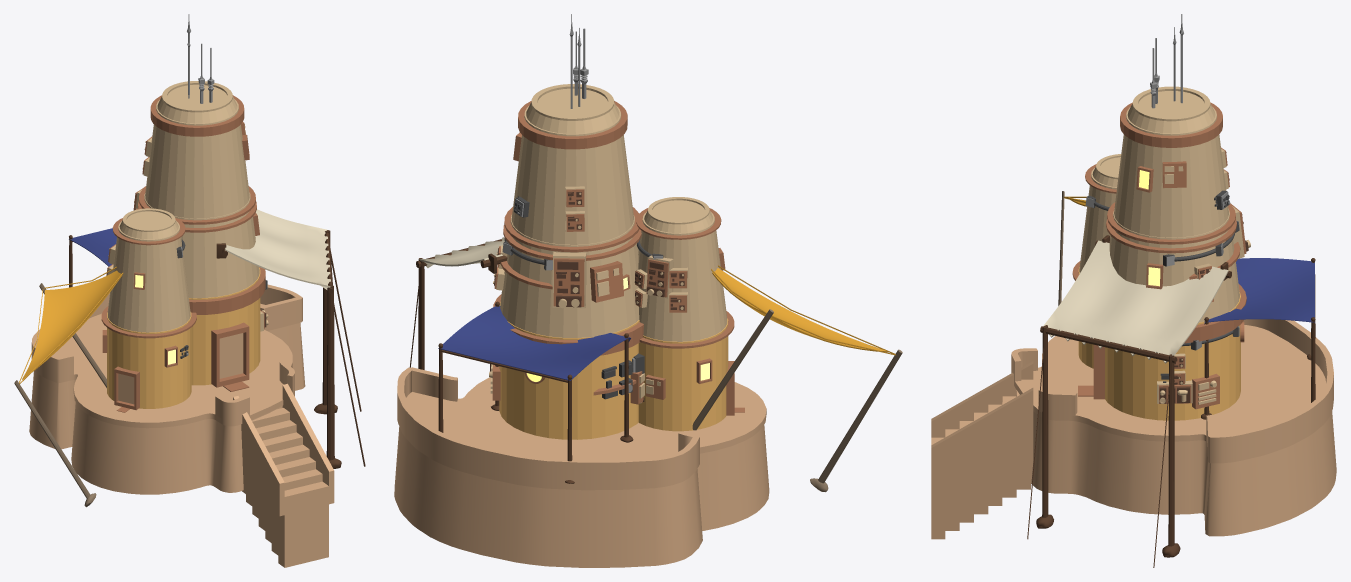
File: nomad_building_b16.fbx
3 views of the same model, side by side, from view 1: azimuth 30°, elevation 25°; view 2: azimuth 150°, elevation 25°; view 3: azimuth 270°, elevation 25° (orthographic). The views are drawn at different scales.
Visible parts, largest first — view 1: NomadBuilding_B16; view 2: NomadBuilding_B16; view 3: NomadBuilding_B16.
Boxes of the visible parts, x1,y1,x2,y2 form: NomadBuilding_B16: (14, 14, 365, 567); NomadBuilding_B16: (394, 14, 902, 567); NomadBuilding_B16: (931, 14, 1336, 567).
Size of the model in its own units: 2338 by 2677 by 1925.
